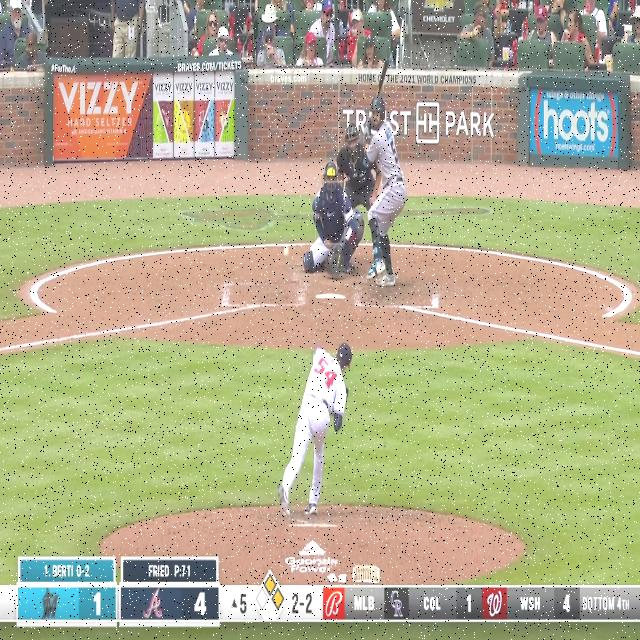baseball: (283, 247, 289, 257)
